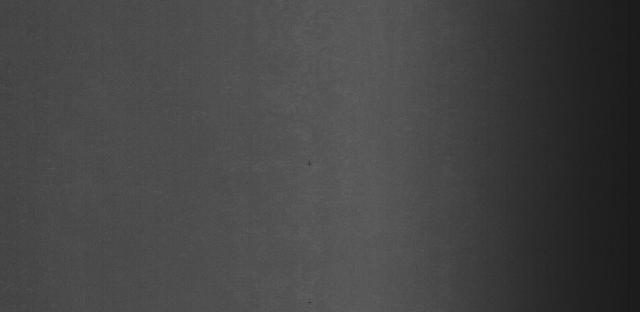inclusion: (302, 153, 322, 173)
